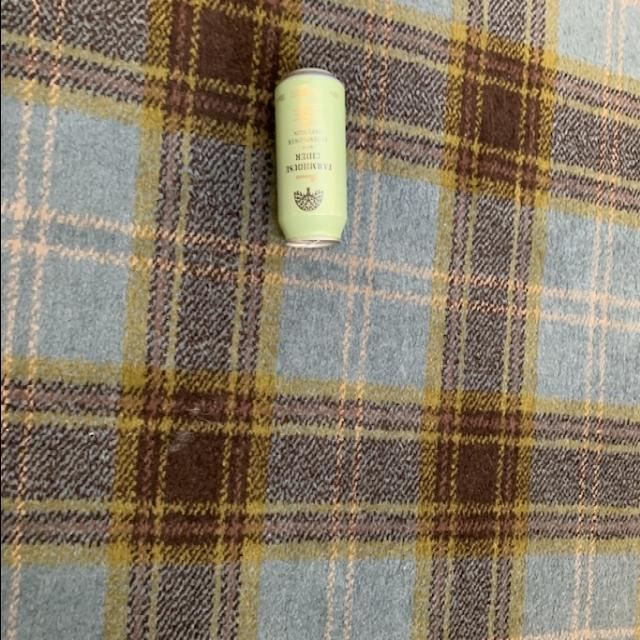litter: (274, 69, 346, 252)
